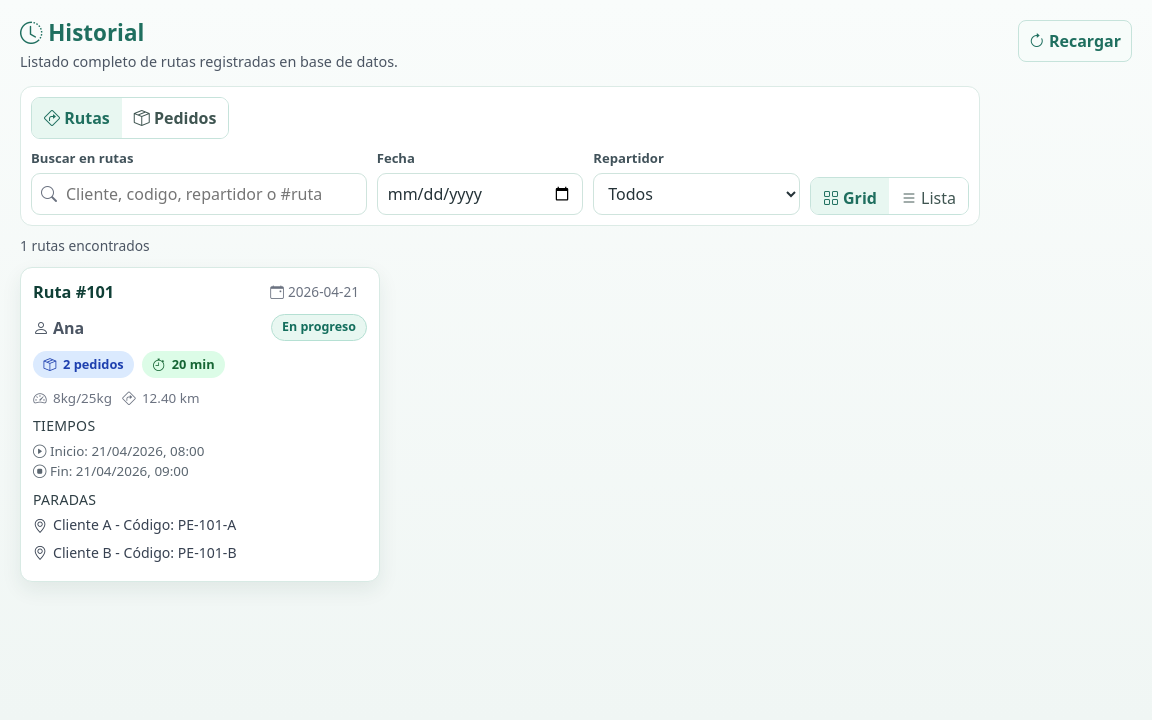
Test: HistorialRutas — módulo completo › Contador de resultados › el contador cambia a pedidos al cambiar de modo
Expected: the text "1 rutas encontrados" is shown, [20,236,150,255]
Click the button "Pedidos" at (175, 118), box [122,98,228,138]
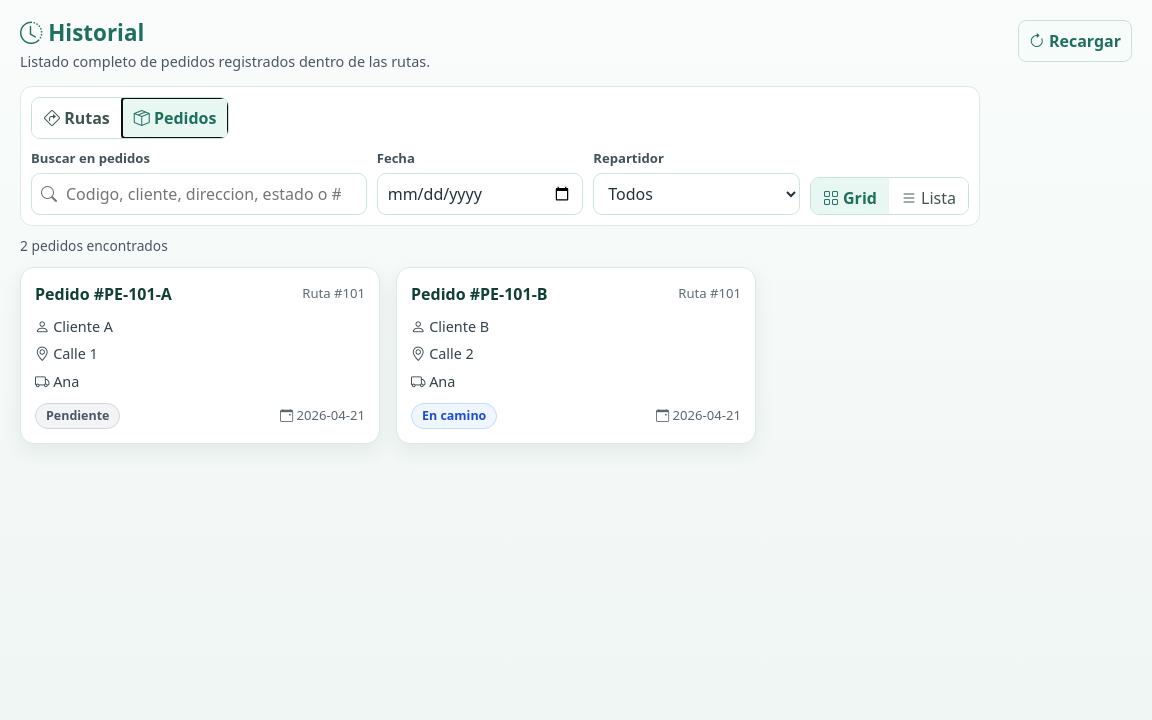
Now the text "2 pedidos encontrados" is shown, box [20,236,168,255]
